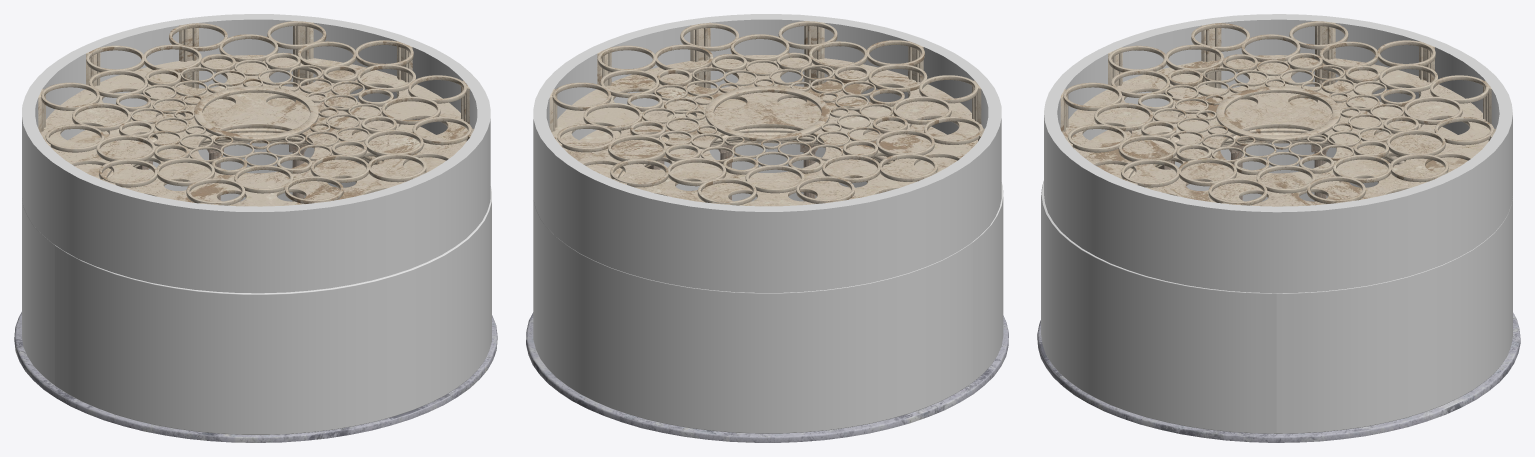
Rendered from art_scene.fbx.
3 views of the same model, side by side, from view 1: azimuth 30°, elevation 25°; view 2: azimuth 150°, elevation 25°; view 3: azimuth 270°, elevation 25° (orthographic).
Visible parts, largest first — view 1: Wall_1, Wall_2, Roof, Top_Rings, Base, Roof_Partition, Top_Wall_Design, Pillers; view 2: Wall_1, Wall_2, Roof, Top_Rings, Base, Roof_Partition, Top_Wall_Design, Pillers; view 3: Wall_1, Wall_2, Roof, Top_Rings, Base, Roof_Partition, Top_Wall_Design, Pillers.
Part boxes in pixels (bbox=[...]): Wall_1: bbox=[22, 143, 491, 434]; Wall_2: bbox=[22, 14, 490, 293]; Roof: bbox=[40, 55, 472, 206]; Top_Rings: bbox=[41, 21, 471, 205]; Base: bbox=[14, 312, 497, 442]; Roof_Partition: bbox=[68, 98, 445, 179]; Top_Wall_Design: bbox=[38, 21, 474, 205]; Pillers: bbox=[136, 144, 361, 201]; Wall_1: bbox=[533, 143, 1003, 433]; Wall_2: bbox=[533, 14, 1001, 292]; Roof: bbox=[551, 55, 983, 206]; Top_Rings: bbox=[552, 21, 982, 205]; Base: bbox=[526, 312, 1008, 442]; Roof_Partition: bbox=[580, 97, 957, 178]; Top_Wall_Design: bbox=[549, 21, 984, 204]; Pillers: bbox=[647, 144, 872, 201]; Wall_1: bbox=[1041, 143, 1512, 433]; Wall_2: bbox=[1044, 14, 1512, 293]; Roof: bbox=[1062, 55, 1494, 206]; Top_Rings: bbox=[1063, 21, 1493, 205]; Base: bbox=[1037, 312, 1520, 442]; Roof_Partition: bbox=[1090, 98, 1467, 179]; Top_Wall_Design: bbox=[1060, 21, 1496, 205]; Pillers: bbox=[1158, 145, 1383, 201].
Size of the model in its own units: 1911 by 999 by 1912.
